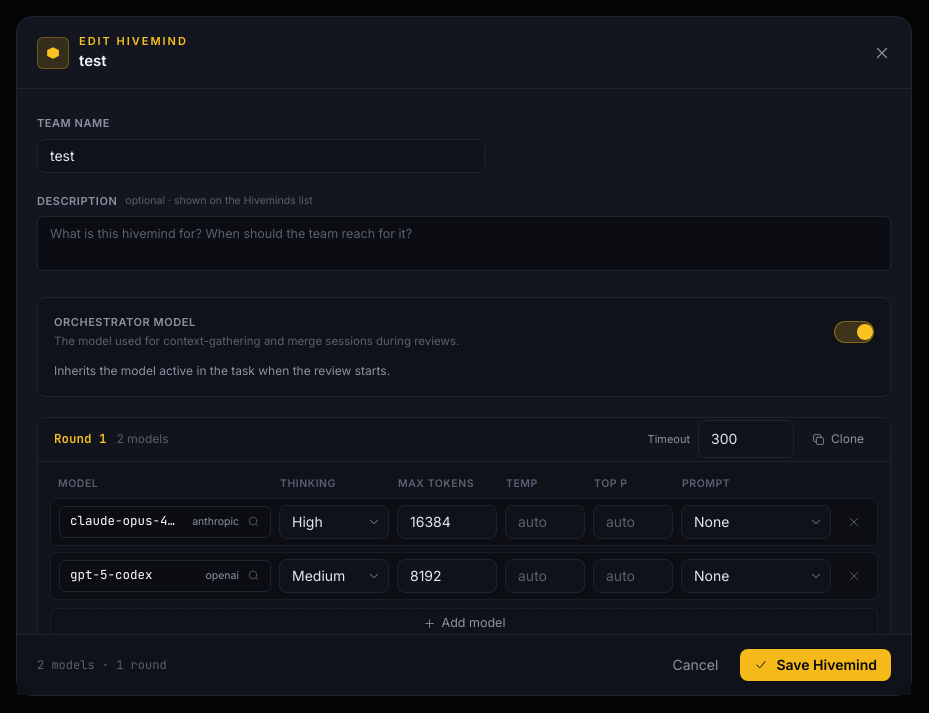
HivemindEditModal › cloned round preserves model configuration
Click the button "Clone" at (838, 439), box [802,427,874,451]
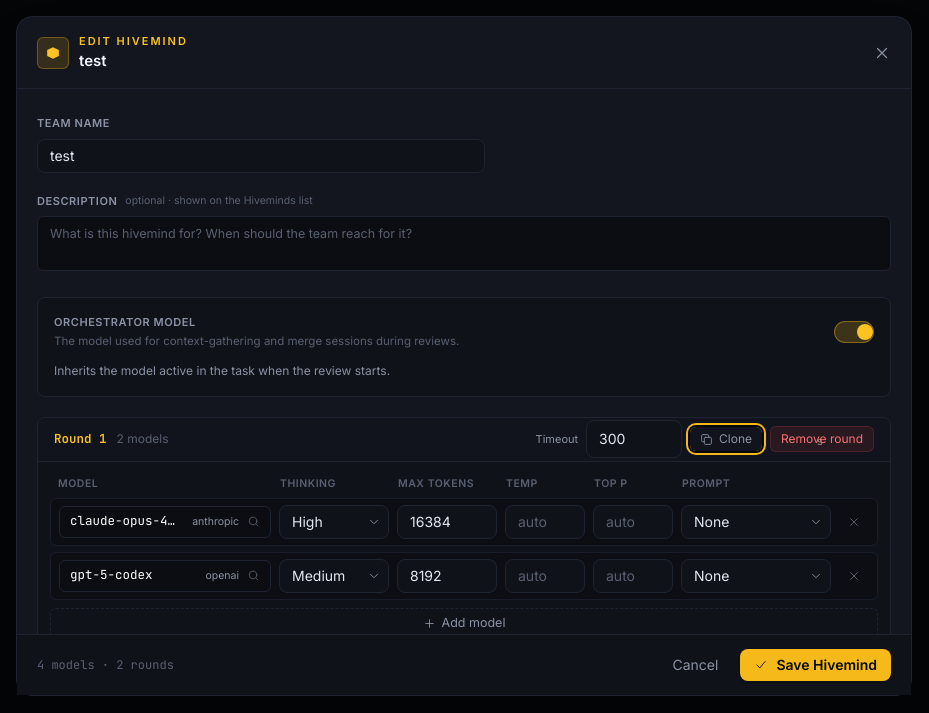
Check: the text "4 models · 2 rounds" is shown, box [37,656,174,674]
